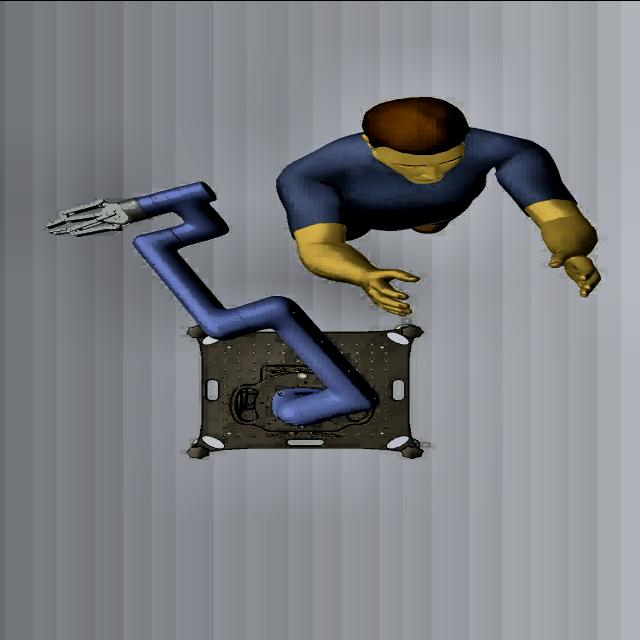human: (273, 96, 603, 316)
robot: (42, 180, 429, 435)
